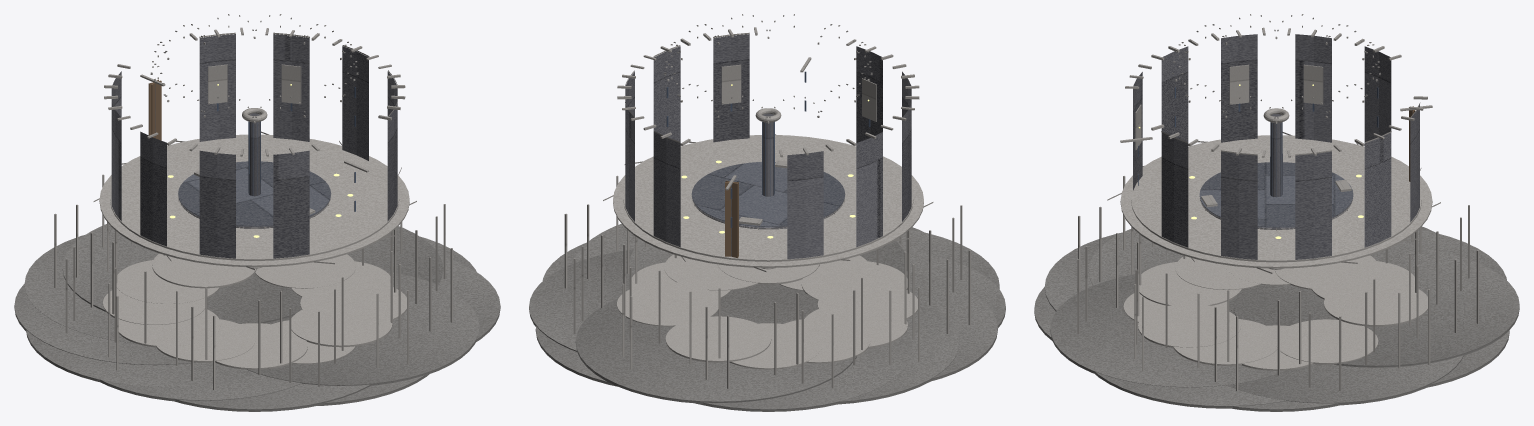
Rendered from test-iso-photo2_v1.glb.
3 views of the same model, side by side, from view 1: azimuth 30°, elevation 25°; view 2: azimuth 150°, elevation 25°; view 3: azimuth 270°, elevation 25° (orthographic).
Visible parts, largest first — view 1: colonne_10, plinthe, colonne_3, colonne_6, colonne_4, colonne_5, colonne_8, colonne_7, colonne_1, colonne_11, assise, mur_7 (+14 smaller); view 2: colonne_3, plinthe, colonne_1, colonne_4, colonne_5, colonne_6, main_courante, colonne_8, colonne_7, assise, mur_4, colonne_11 (+16 smaller); view 3: colonne_3, colonne_10, plinthe, colonne_1, colonne_11, colonne_8, colonne_4, assise, mur_0, mur_11, colonne_7, main_courante (+16 smaller).
Part boxes in pixels (<box>): colonne_10: <box>246,231,479,386</box>; plinthe: <box>110,137,399,260</box>; colonne_3: <box>62,141,342,323</box>; colonne_6: <box>26,163,282,386</box>; colonne_4: <box>24,131,287,343</box>; colonne_5: <box>14,140,292,365</box>; colonne_8: <box>108,227,400,411</box>; colonne_7: <box>65,198,343,401</box>; colonne_1: <box>163,201,445,290</box>; colonne_11: <box>300,256,500,367</box>; assise: <box>99,134,409,267</box>; mur_7: <box>199,150,235,258</box>; colonne_3: <box>573,195,862,403</box>; plinthe: <box>623,137,913,261</box>; colonne_1: <box>529,141,720,364</box>; colonne_4: <box>622,228,914,411</box>; colonne_5: <box>681,230,959,404</box>; colonne_6: <box>753,232,997,388</box>; main_courante: <box>691,162,845,226</box>; colonne_8: <box>801,229,999,333</box>; colonne_7: <box>817,250,1005,364</box>; assise: <box>613,135,923,267</box>; mur_4: <box>787,151,823,259</box>; colonne_11: <box>573,224,757,317</box>; colonne_3: <box>1234,245,1519,368</box>; colonne_10: <box>1050,165,1301,387</box>; plinthe: <box>1131,138,1421,262</box>; colonne_1: <box>1191,231,1463,405</box>; colonne_11: <box>1077,193,1375,408</box>; colonne_8: <box>1044,132,1291,347</box>; colonne_4: <box>1229,229,1506,332</box>; assise: <box>1120,135,1432,268</box>; mur_0: <box>1295,151,1331,259</box>; mur_11: <box>1221,151,1257,259</box>; colonne_7: <box>1088,143,1358,316</box>; main_courante: <box>1199,162,1353,227</box>.
Bounding box in the file's own units: 86.85 × 57.38 × 87.14.
Materials: 10 (6 with a texture image).
